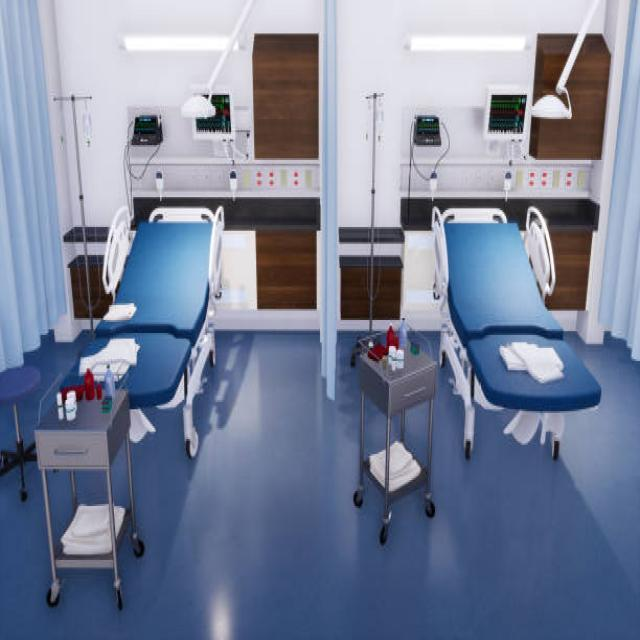Monitor: (186, 80, 253, 164), (480, 80, 536, 154)
Saline Stand: (43, 83, 106, 356), (345, 85, 396, 387)
bed: (430, 205, 602, 460), (79, 202, 224, 458)
stool: (0, 353, 46, 502)
tools_table: (41, 363, 168, 618), (343, 319, 447, 540)
